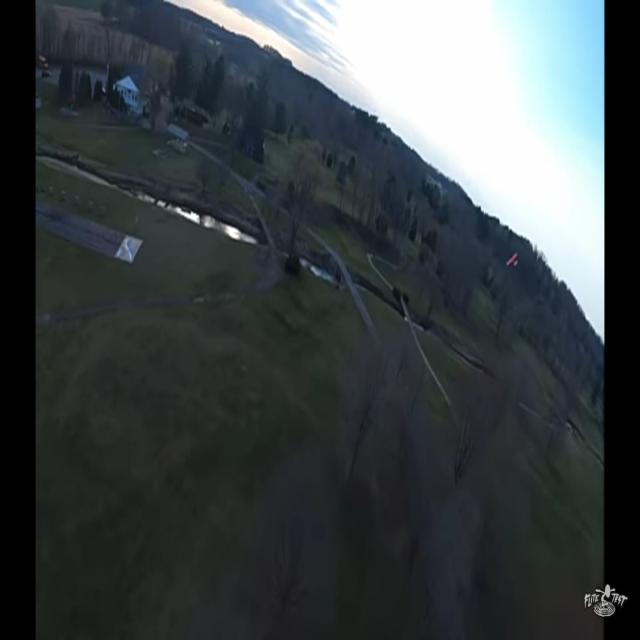iha: (509, 252, 515, 268)
